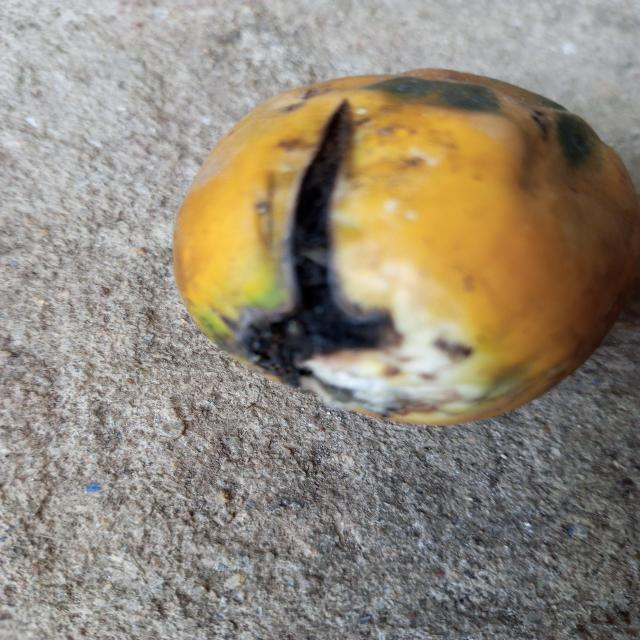damaged: (172, 68, 640, 430)
